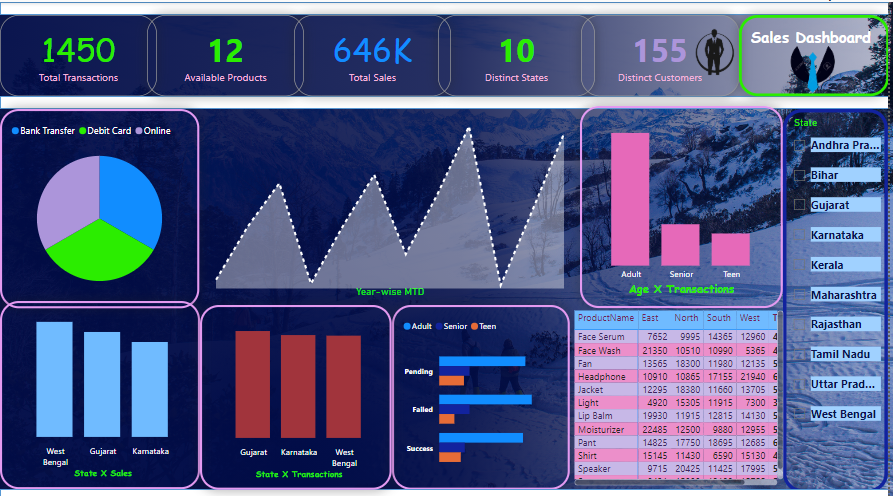

What the dashboard file says about the page in this screenshot:
{"tool":"powerbi","page":{"name":"Page 1","canvas":[1280,720],"ordinal":0},"visuals":[{"type":"card","fields":{"Values":["Transactions.Measure"]},"box":[0,18.7,226.1,116.6],"z":0},{"type":"shape","box":[0,0,1280.2,18.7],"z":1000},{"type":"shape","box":[0,135.4,1280.2,18.7],"z":2000},{"type":"image","box":[1095.8,34.6,149.8,149.8],"z":3000},{"type":"image","box":[979.2,0,99.4,149.8],"z":4000},{"type":"card","fields":{"Values":["Count(Transactions.ProductName)"]},"box":[211.7,18.7,226.1,116.6],"z":5000},{"type":"card","fields":{"Values":["Transactions.Measure 3"]},"box":[423.4,18.7,226.1,116.6],"z":6000},{"type":"card","fields":{"Values":["Count(Customer.State)"]},"box":[630.7,18.7,226.1,116.6],"z":7000},{"type":"card","fields":{"Values":["Customer.Measure 2"]},"box":[836.6,18.7,227.5,116.6],"z":8000},{"type":"textbox","box":[1064.2,18.7,216,116.6],"z":9000},{"type":"pieChart","fields":{"Y":["Count(Transactions.Mode)"],"Category":["Transactions.Mode"]},"box":[0,154.1,286.6,286.6],"z":10000},{"type":"columnChart","fields":{"Y":["CountNonNull(Transactions.TransactionID)"],"Category":["Transactions.AgeGroup"]},"box":[835.2,149.8,292.3,290.9],"z":11000},{"type":"columnChart","fields":{"Y":["Sum(Transactions.TotalSales)"],"Category":["Customer.State"]},"box":[0,430.6,288,270.7],"z":12000},{"type":"clusteredBarChart","fields":{"Category":["Transactions.Status"],"Y":["CountNonNull(Transactions.AgeGroup)"],"Series":["Transactions.AgeGroup"]},"box":[564.5,436.3,256.3,266.4],"z":13000},{"type":"slicer","fields":{"Values":["Customer.State"]},"box":[1127.5,154.1,151.2,551.5],"z":14000},{"type":"pivotTable","fields":{"Columns":["Transactions.Region"],"Rows":["Transactions.ProductName"],"Values":["Sum(Transactions.TotalSales)"]},"box":[822.7,439.2,311,262.1],"z":15000},{"type":"shape","box":[0,701.3,1280.2,18.7],"z":16000},{"type":"lineChart","fields":{"Y":["Transactions.MTD"],"Category":["Calender.Date.Variation.Date Hierarchy.Year","Calender.Date.Variation.Date Hierarchy.Month"]},"box":[288,154.1,547.2,276.5],"z":17000},{"type":"columnChart","fields":{"Y":["CountNonNull(Transactions.TransactionID)"],"Category":["Customer.State"]},"box":[288,436.3,276.5,266.4],"z":18000}]}

Visuals, with their boxes in screenshot pixels (x1, y1, x2, y2), scaled from the page's 1280x720 canvas onto the 893x496 screenshot:
card - Transactions.Measure: [x1=0, y1=13, x2=158, y2=93]
shape: [x1=0, y1=0, x2=892, y2=13]
shape: [x1=0, y1=93, x2=892, y2=106]
image: [x1=764, y1=24, x2=869, y2=127]
image: [x1=683, y1=0, x2=752, y2=103]
card - Count(Transactions.ProductName): [x1=148, y1=13, x2=305, y2=93]
card - Transactions.Measure 3: [x1=295, y1=13, x2=453, y2=93]
card - Count(Customer.State): [x1=440, y1=13, x2=598, y2=93]
card - Customer.Measure 2: [x1=584, y1=13, x2=742, y2=93]
textbox: [x1=742, y1=13, x2=892, y2=93]
pieChart - Count(Transactions.Mode) x Transactions.Mode: [x1=0, y1=106, x2=200, y2=304]
columnChart - CountNonNull(Transactions.TransactionID) x Transactions.AgeGroup: [x1=583, y1=103, x2=787, y2=304]
columnChart - Sum(Transactions.TotalSales) x Customer.State: [x1=0, y1=297, x2=201, y2=483]
clusteredBarChart - Transactions.Status x CountNonNull(Transactions.AgeGroup): [x1=394, y1=301, x2=573, y2=484]
slicer - Customer.State: [x1=787, y1=106, x2=892, y2=486]
pivotTable - Transactions.Region x Transactions.ProductName: [x1=574, y1=303, x2=791, y2=483]
shape: [x1=0, y1=483, x2=892, y2=495]
lineChart - Transactions.MTD x Calender.Date.Variation.Date Hierarchy.Year: [x1=201, y1=106, x2=583, y2=297]
columnChart - CountNonNull(Transactions.TransactionID) x Customer.State: [x1=201, y1=301, x2=394, y2=484]
